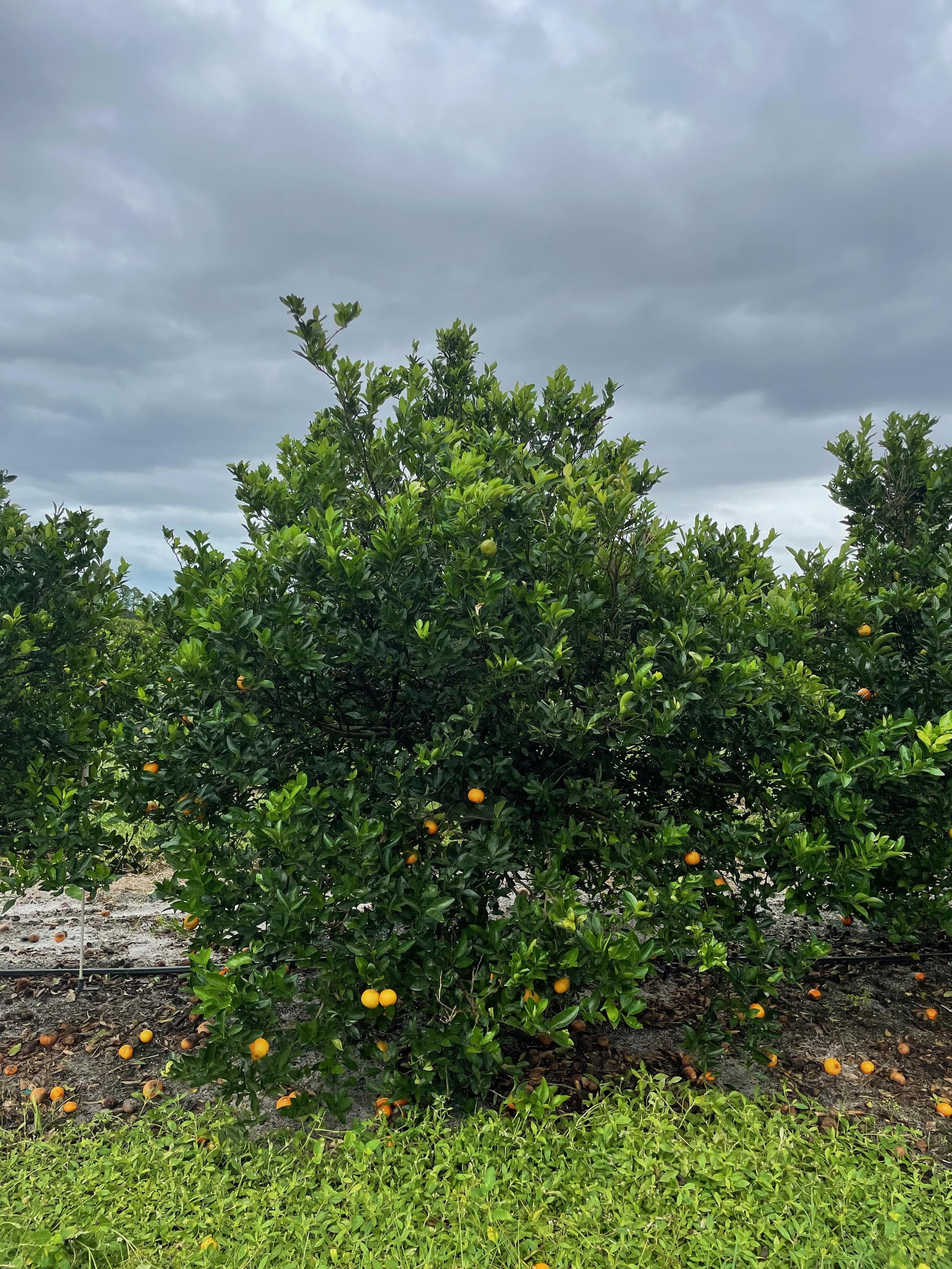fruit_on_ground: (185, 794, 212, 822), (245, 1035, 270, 1062), (175, 792, 200, 816), (478, 536, 501, 559), (519, 986, 543, 1008), (369, 1039, 391, 1062), (399, 847, 422, 869), (551, 973, 573, 995), (360, 987, 382, 1009), (420, 816, 441, 839), (233, 671, 255, 692), (378, 986, 399, 1008), (466, 785, 488, 805), (181, 912, 201, 932), (682, 848, 703, 867), (275, 1094, 295, 1113), (855, 620, 875, 639), (141, 759, 161, 777), (855, 685, 874, 703), (747, 1001, 766, 1019), (178, 711, 197, 728), (709, 875, 727, 892), (143, 799, 160, 816), (391, 1092, 409, 1107), (89, 797, 105, 813)
fruit_on_tree: (142, 1078, 165, 1099), (198, 1234, 220, 1254), (822, 1056, 842, 1075), (28, 1085, 49, 1103), (568, 1016, 588, 1033), (889, 1143, 907, 1161), (935, 1099, 952, 1117), (117, 1042, 135, 1059), (38, 1030, 57, 1046), (763, 1051, 780, 1068), (859, 1058, 876, 1075), (195, 1021, 213, 1037), (889, 1069, 907, 1085), (595, 1033, 612, 1049), (681, 1066, 698, 1082), (49, 1084, 65, 1100), (923, 1005, 940, 1020), (138, 1028, 155, 1043), (15, 976, 31, 991), (807, 985, 823, 1000), (896, 1040, 911, 1055), (703, 1069, 718, 1084), (3, 1063, 19, 1077), (838, 912, 854, 926), (62, 1099, 78, 1113), (178, 1037, 193, 1051), (102, 1095, 118, 1108), (51, 930, 67, 943), (913, 969, 928, 982), (187, 1011, 201, 1024), (188, 993, 201, 1005), (0, 922, 11, 935), (27, 932, 40, 943), (217, 967, 228, 978), (100, 909, 111, 918)
